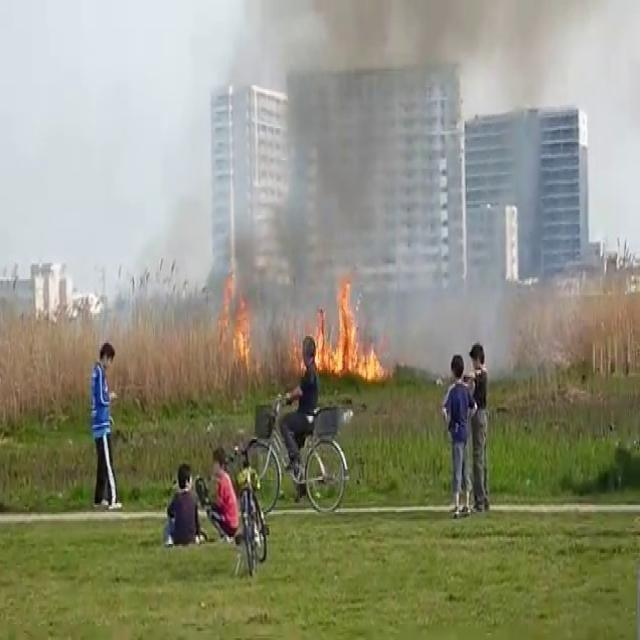Fire: (310, 268, 384, 387), (210, 260, 257, 366)
Smoke: (98, 0, 584, 338)
